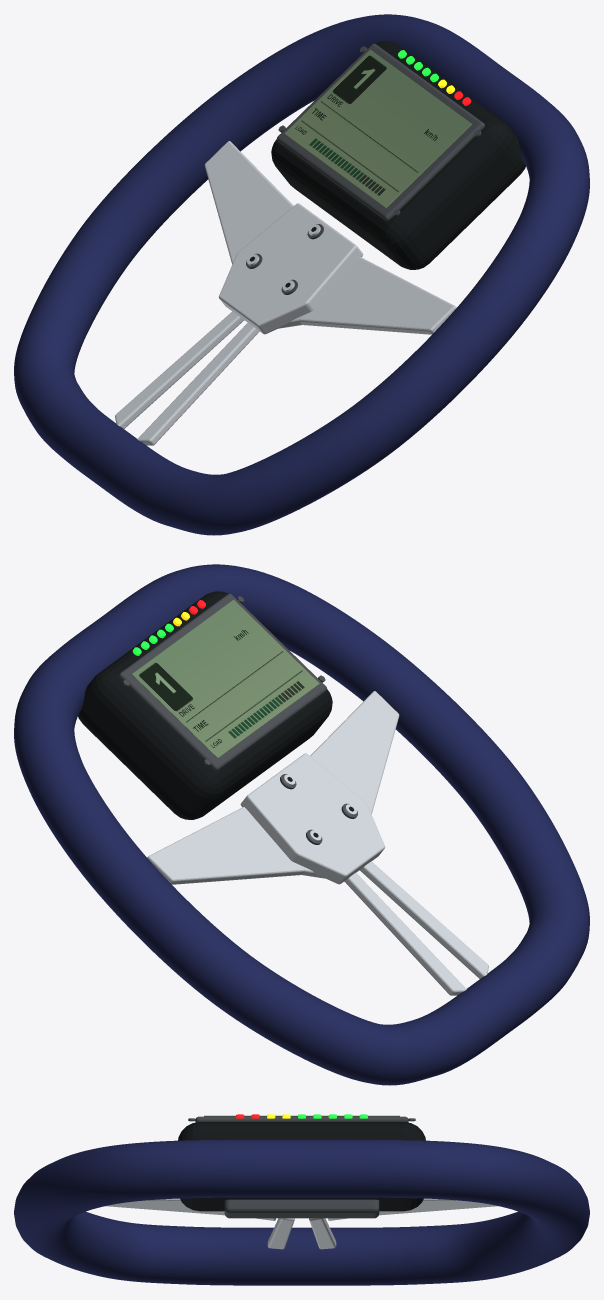
File: SM_V4_SteeringWheel.fbx
3 views of the same model, one above another, from view 1: azimuth 30°, elevation 25°; view 2: azimuth 150°, elevation 25°; view 3: azimuth 270°, elevation 25° (orthographic). The views are drawn at different scales.
Parts seen in each view (by area): view 1: SM_V4_SteeringWheel; view 2: SM_V4_SteeringWheel; view 3: SM_V4_SteeringWheel.
Part boxes in pixels (x1,y1,x2,y2): SM_V4_SteeringWheel: [14, 14, 589, 535]; SM_V4_SteeringWheel: [14, 564, 589, 1085]; SM_V4_SteeringWheel: [14, 1114, 589, 1285].
Bounding box in the file's own units: 27.57 × 33.53 × 20.59.
